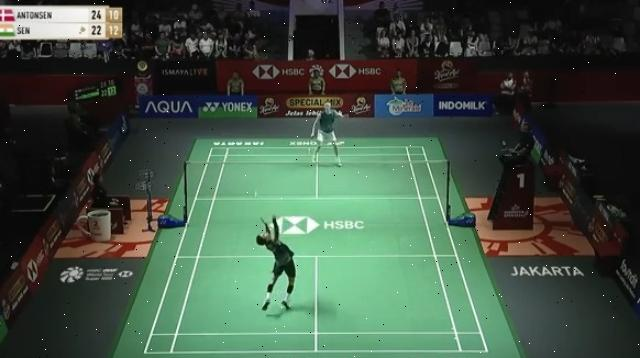Shuttlecock: (250, 188, 262, 198)
